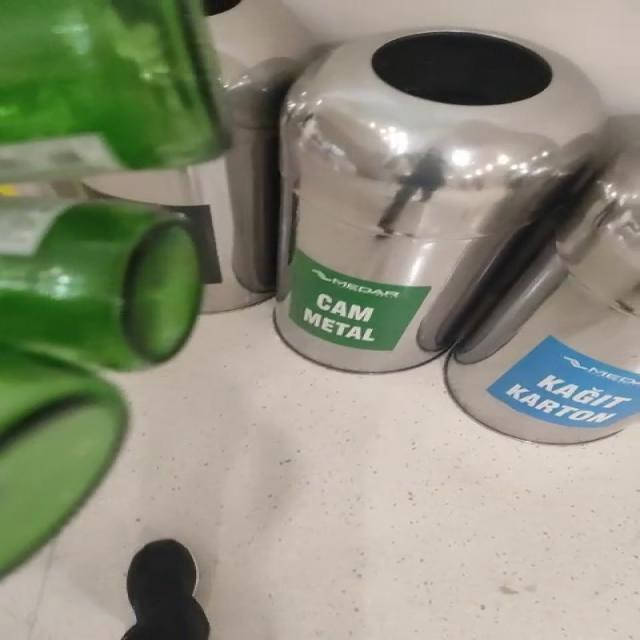Glass: (1, 196, 201, 574), (1, 0, 228, 182)
